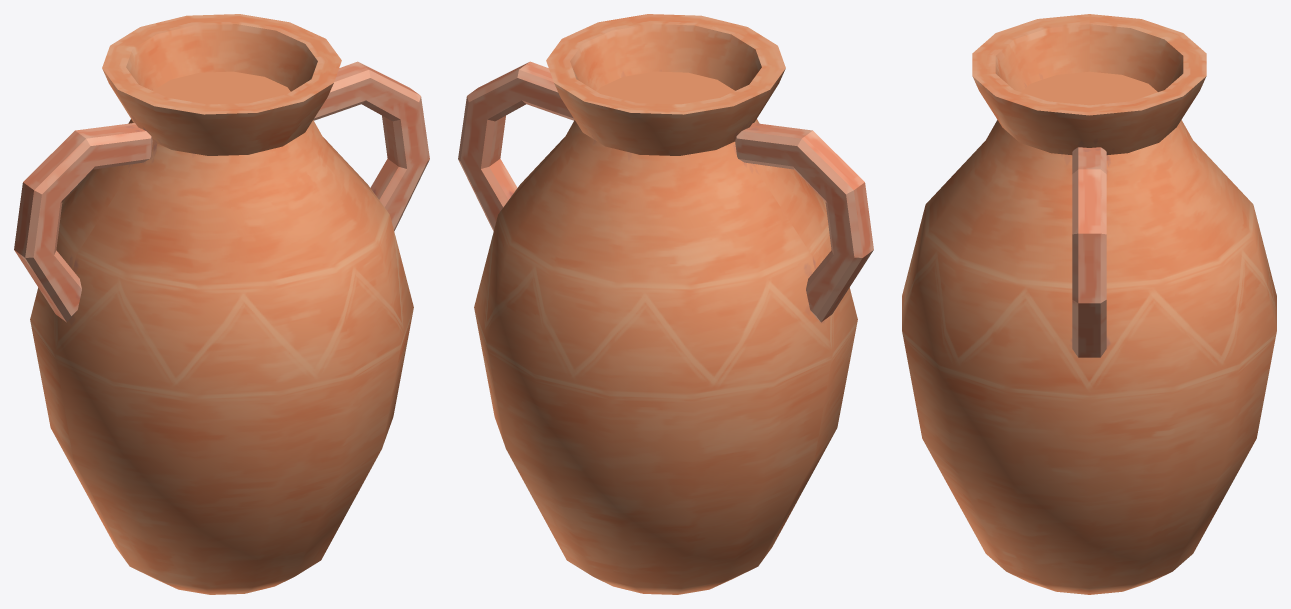
File: pot_tall.fbx
3 views of the same model, side by side, from view 1: azimuth 30°, elevation 25°; view 2: azimuth 150°, elevation 25°; view 3: azimuth 270°, elevation 25° (orthographic).
Parts seen in each view (by area): view 1: pot_tall; view 2: pot_tall; view 3: pot_tall.
Part boxes in pixels (<box>): pot_tall: <box>14,14,429,594</box>; pot_tall: <box>458,14,873,594</box>; pot_tall: <box>902,14,1276,594</box>.
Bounding box in the file's own units: 2.72 × 3.2 × 2.18.
1 material, 1 textured.
